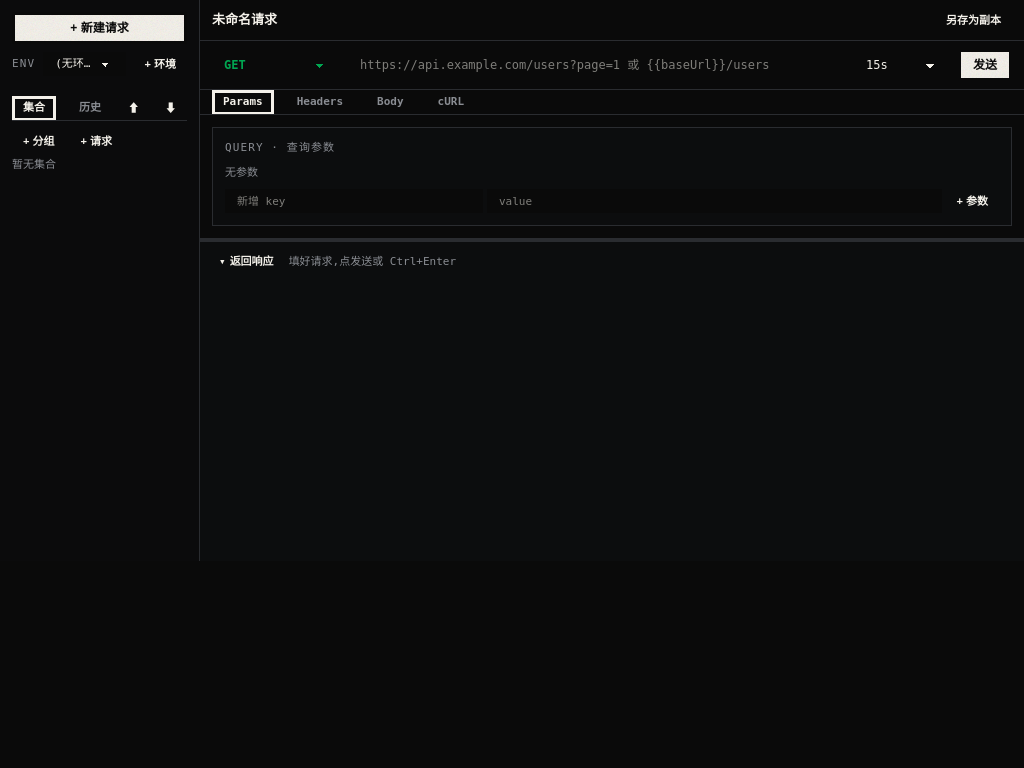
Test: 请求区页签 › 切到 Body:只渲染 body 编辑器,且「格式化 JSON」与它在同一屏
Step 1. Click the tab with test id "request-tab-body" → (390, 102), box [366,90,415,114]
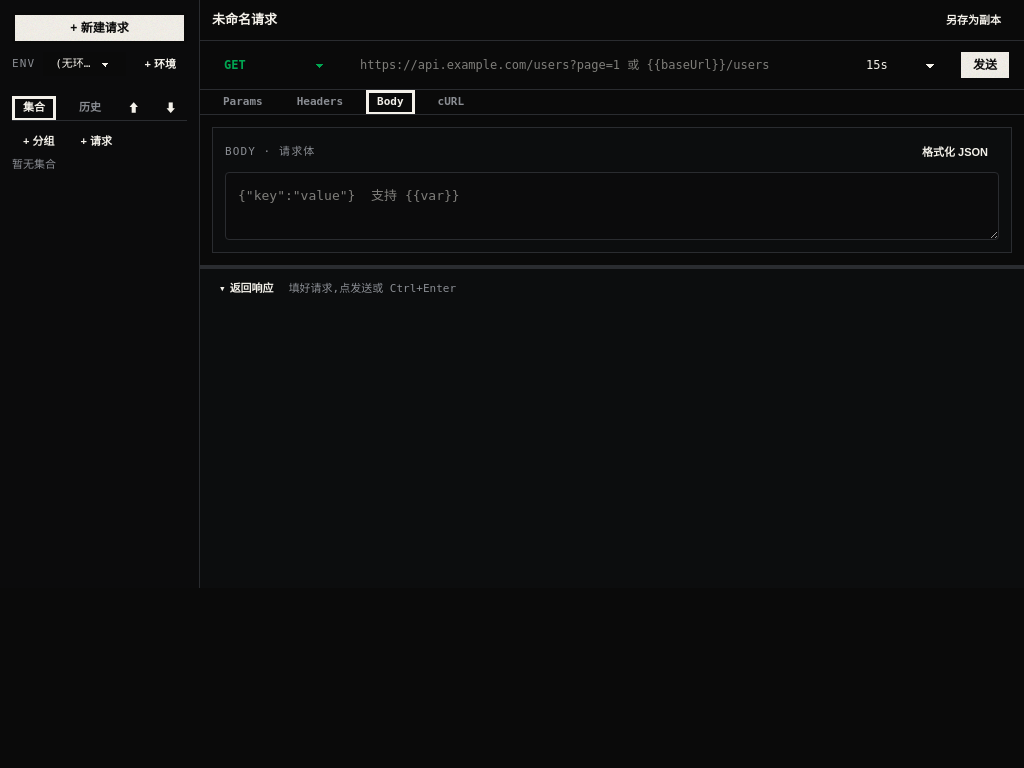
Expected: the text box with placeholder "{\"key\":\"value\"} 支持 {{var}}" is shown, [225,172,999,240]
Expected: the button "格式化 JSON" is shown, [911,140,999,164]
